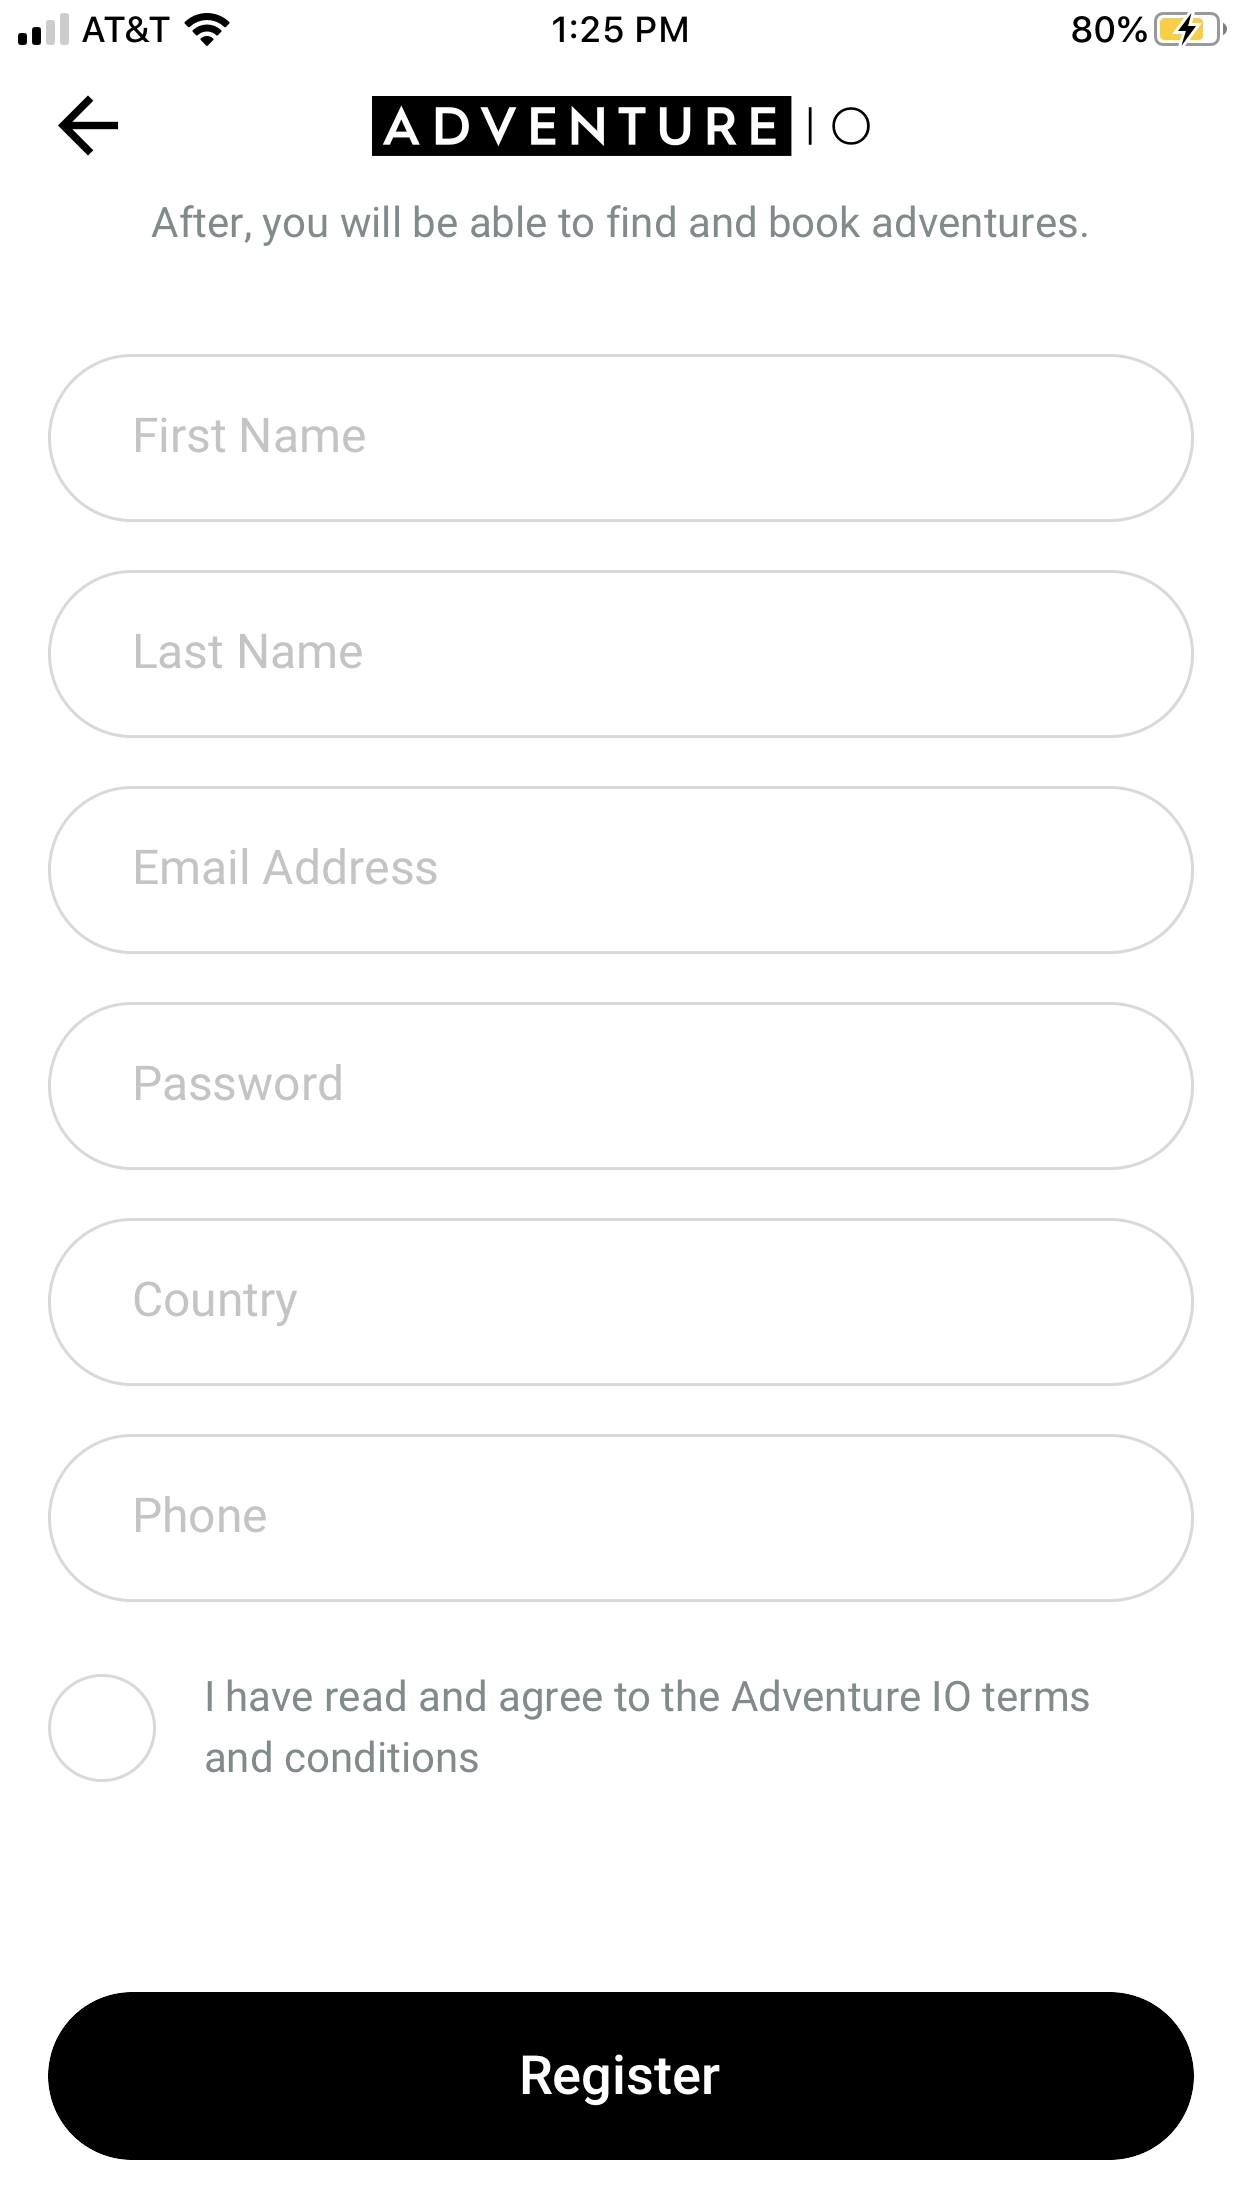CheckedTextView: (49, 1673, 1090, 1783)
EditText: (49, 353, 1195, 523), (49, 786, 1195, 955), (49, 1218, 1195, 1388), (49, 570, 1197, 739), (49, 1002, 1195, 1171), (49, 1435, 1195, 1603)
Icon: (59, 96, 120, 158)
Image: (373, 97, 870, 158)
Text: (206, 1679, 1090, 1774), (152, 205, 1087, 247), (136, 848, 438, 886), (136, 417, 367, 455), (136, 635, 364, 670), (136, 1065, 343, 1102), (136, 1281, 299, 1328), (136, 1495, 267, 1535)
TextButton: (49, 1991, 1193, 2161)
UpperTaskBar: (2, 2, 1242, 49)
